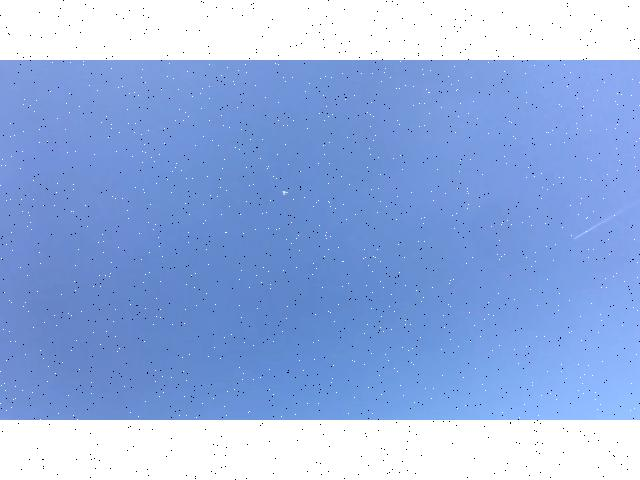Anti-Drone: (277, 181, 297, 202)
